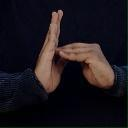hand: (54, 41, 115, 89), (34, 7, 67, 95)
